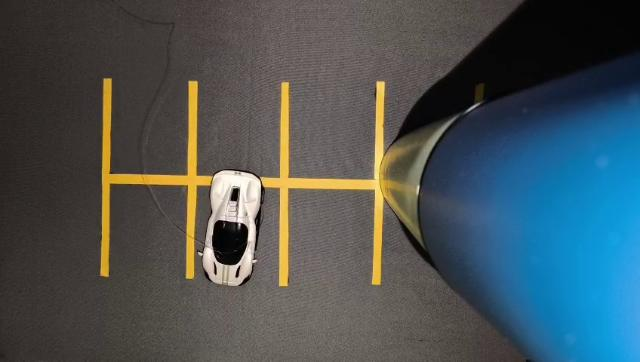toy_car: (184, 155, 297, 340)
